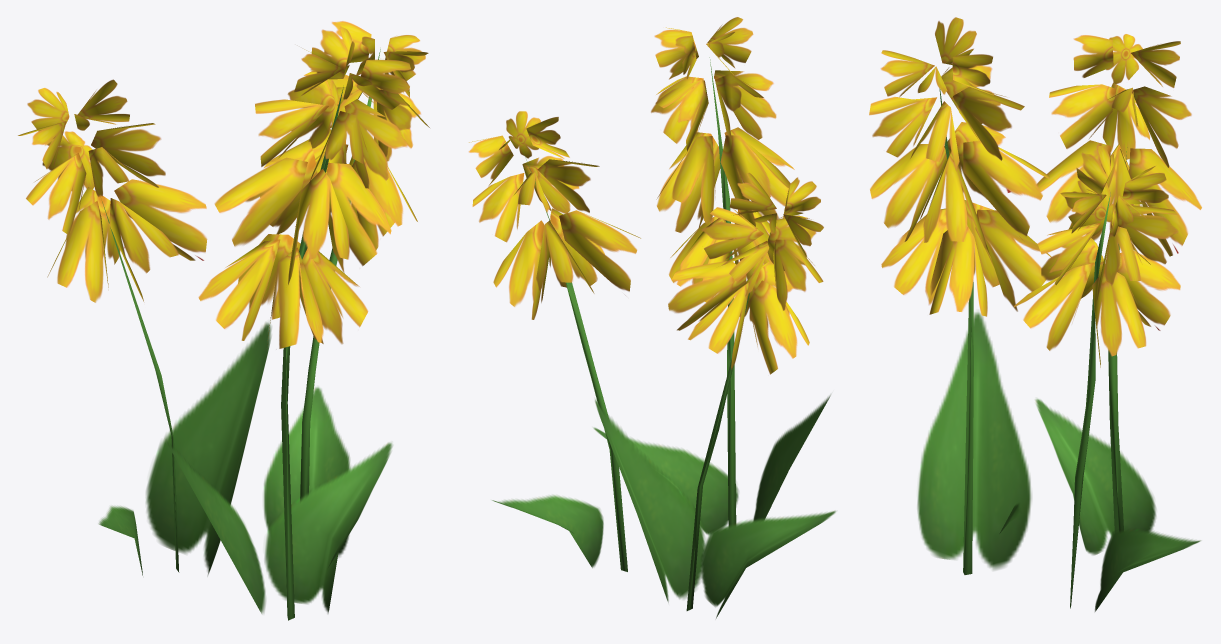
The model's file is flowers2.glb.
3 renders of one model, left to right at view 1: azimuth 30°, elevation 25°; view 2: azimuth 150°, elevation 25°; view 3: azimuth 270°, elevation 25°, orthographic. The views are drawn at different scales.
Parts seen in each view (by area): view 1: Flower_4_Group; view 2: Flower_4_Group; view 3: Flower_4_Group.
Part boxes in pixels (left/top/right/bottom): Flower_4_Group: left=18, top=21, right=429, bottom=620; Flower_4_Group: left=468, top=17, right=835, bottom=618; Flower_4_Group: left=869, top=17, right=1201, bottom=611.
Size of the model in its own units: 1.76 by 2.47 by 1.33.
Materials: 2 (2 with a texture image).
